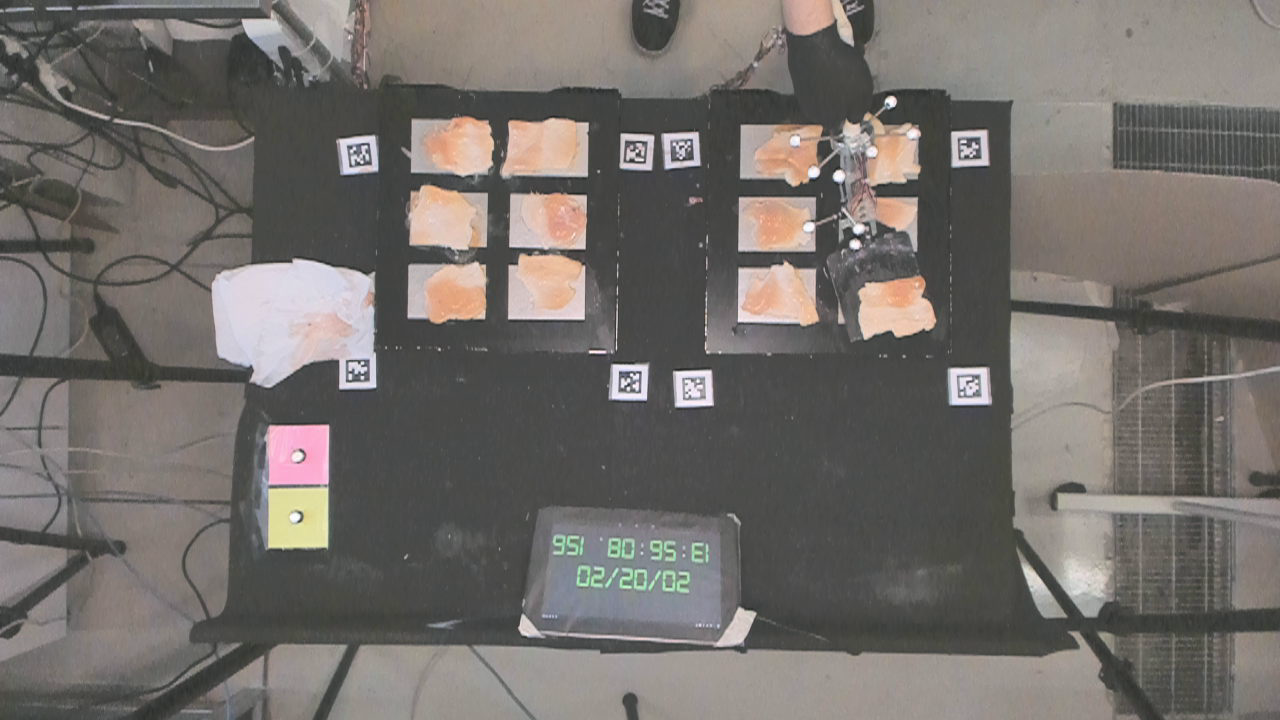chicken: (859, 277, 937, 341), (743, 267, 821, 324), (411, 184, 477, 249), (428, 113, 493, 176), (429, 259, 488, 325), (517, 253, 583, 309), (520, 192, 589, 245), (504, 120, 576, 168), (752, 199, 814, 250), (761, 128, 820, 179)
marker: (268, 424, 329, 485)
